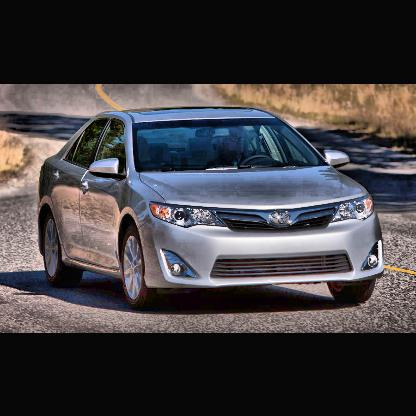Toyota Camry Sedan 2012: (36, 104, 389, 310)
